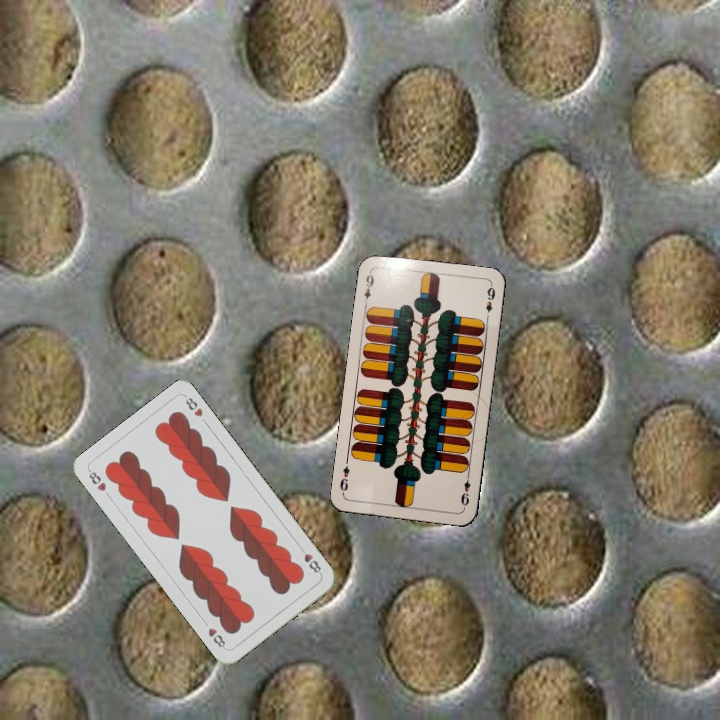E9: (360, 268, 377, 308), (457, 470, 473, 510)
H8: (295, 542, 324, 577), (84, 466, 109, 494)
